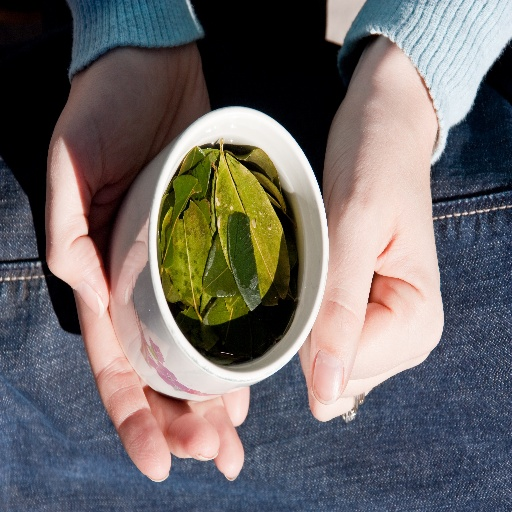hand: (43, 41, 252, 481), (316, 21, 455, 448)
